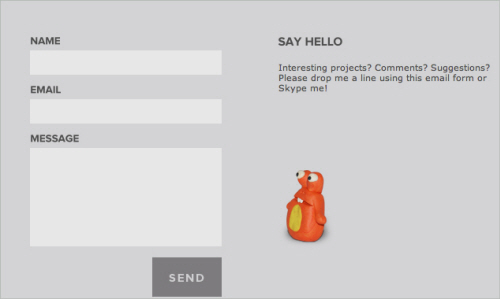_form_: (1, 1, 416, 299)
button: (151, 256, 223, 299)
field: (28, 146, 224, 247), (27, 47, 223, 77), (28, 98, 223, 125)
field_with_label: (26, 133, 226, 249), (25, 83, 226, 127), (26, 35, 225, 79)
